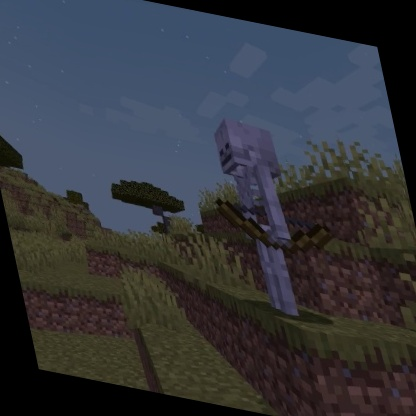skeleton: (190, 105, 357, 332)
